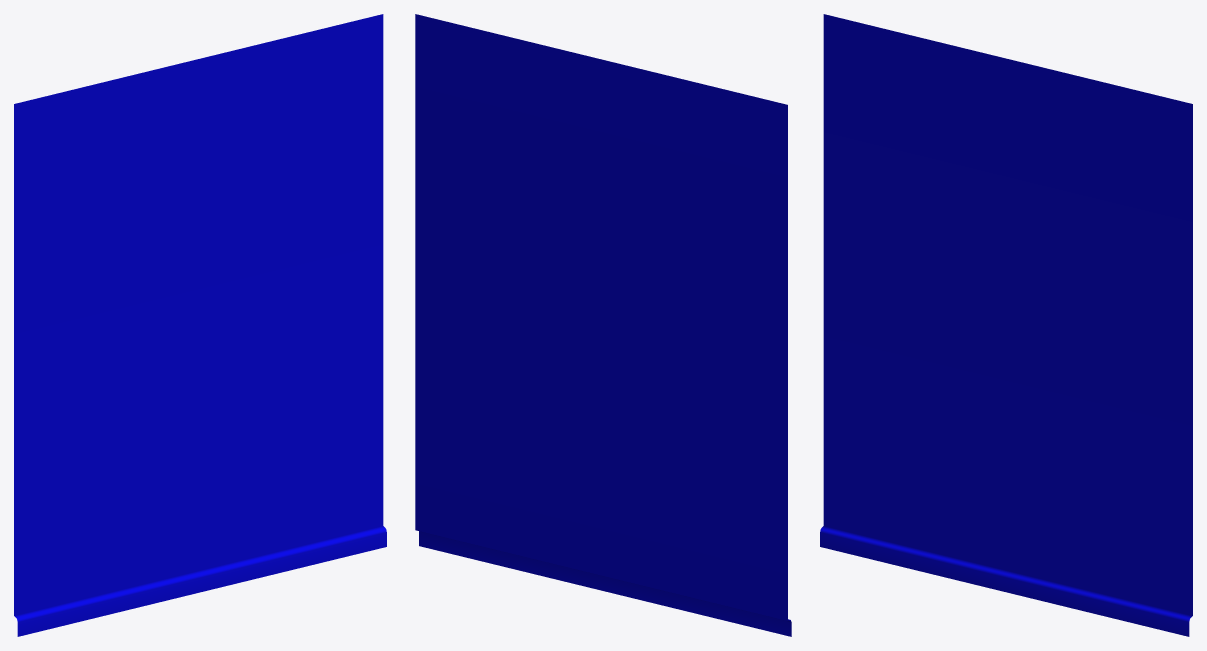
Rendered from SM_Wall.fbx.
The picture shows the model from 3 angles, left to right: view 1: azimuth 30°, elevation 25°; view 2: azimuth 150°, elevation 25°; view 3: azimuth 330°, elevation 25°; orthographic projection.
Parts seen in each view (by area): view 1: SM_Wall; view 2: SM_Wall; view 3: SM_Wall.
Part boxes in pixels (left/top/right/bottom): SM_Wall: left=14, top=14, right=386, bottom=636; SM_Wall: left=415, top=14, right=791, bottom=636; SM_Wall: left=820, top=14, right=1192, bottom=636.
Bounding box in the file's own units: 450 × 618 × 7.78.
